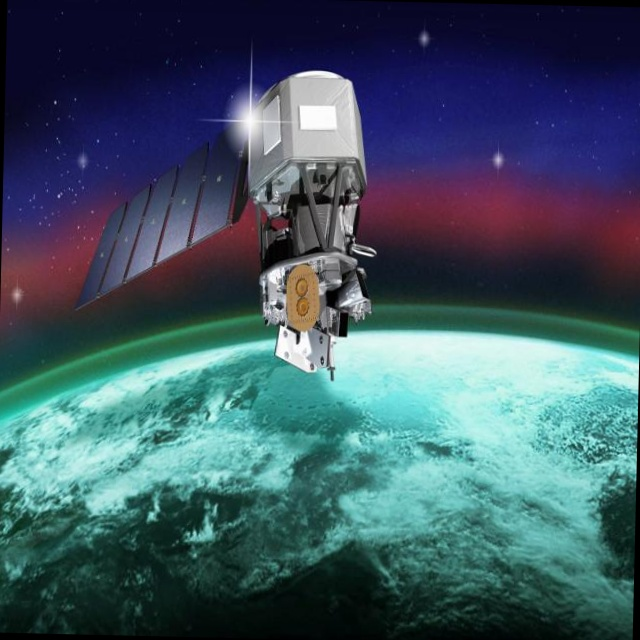medium_debris: (66, 66, 407, 398)
